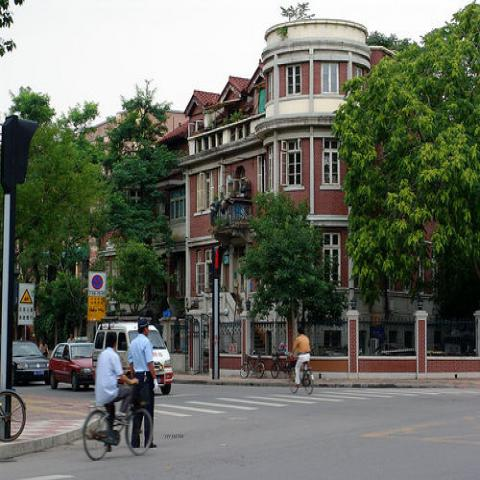car: (94, 317, 174, 396), (51, 338, 100, 388), (13, 342, 50, 386)
